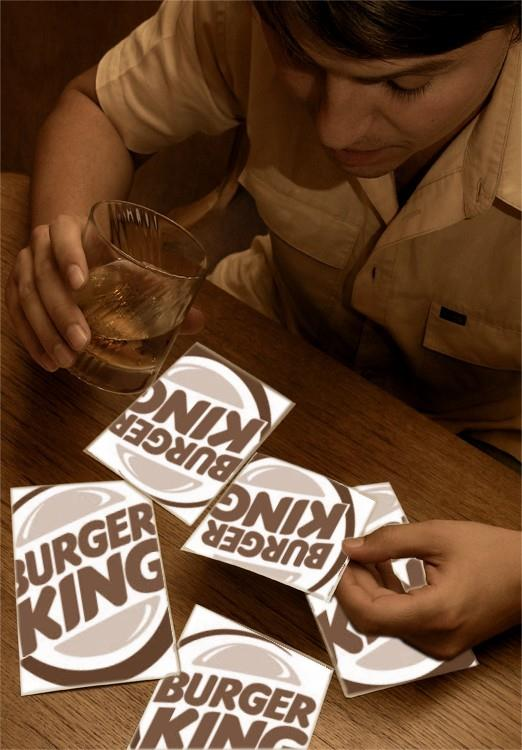Burger_King: (116, 353, 258, 487)
